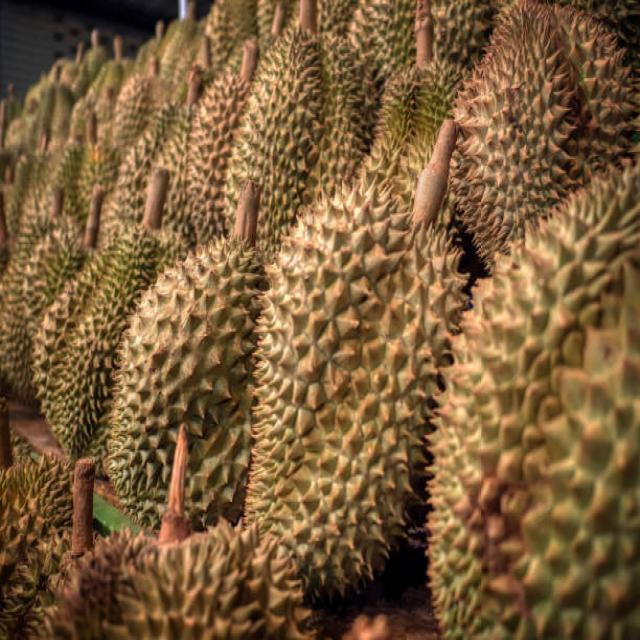mature: (422, 163, 638, 640), (233, 174, 470, 596), (451, 0, 636, 286), (104, 238, 261, 529), (223, 23, 382, 282), (34, 220, 182, 461)
